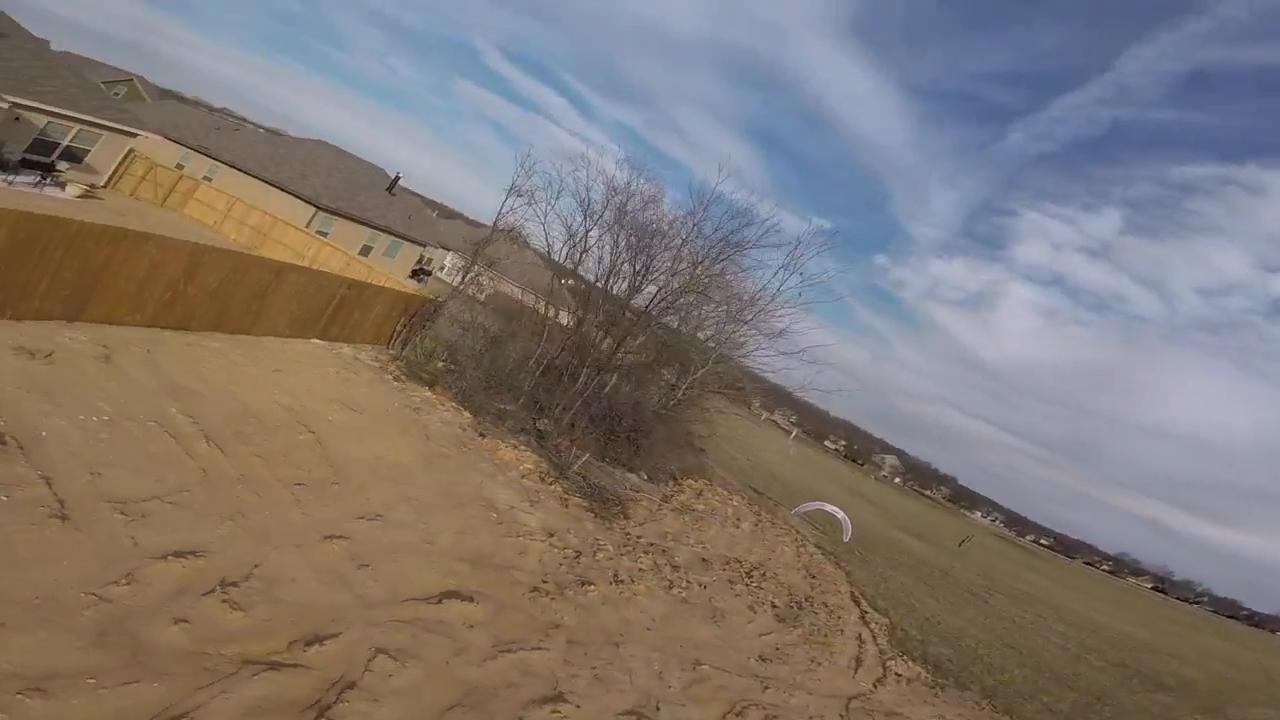gate: (790, 500, 853, 544)
